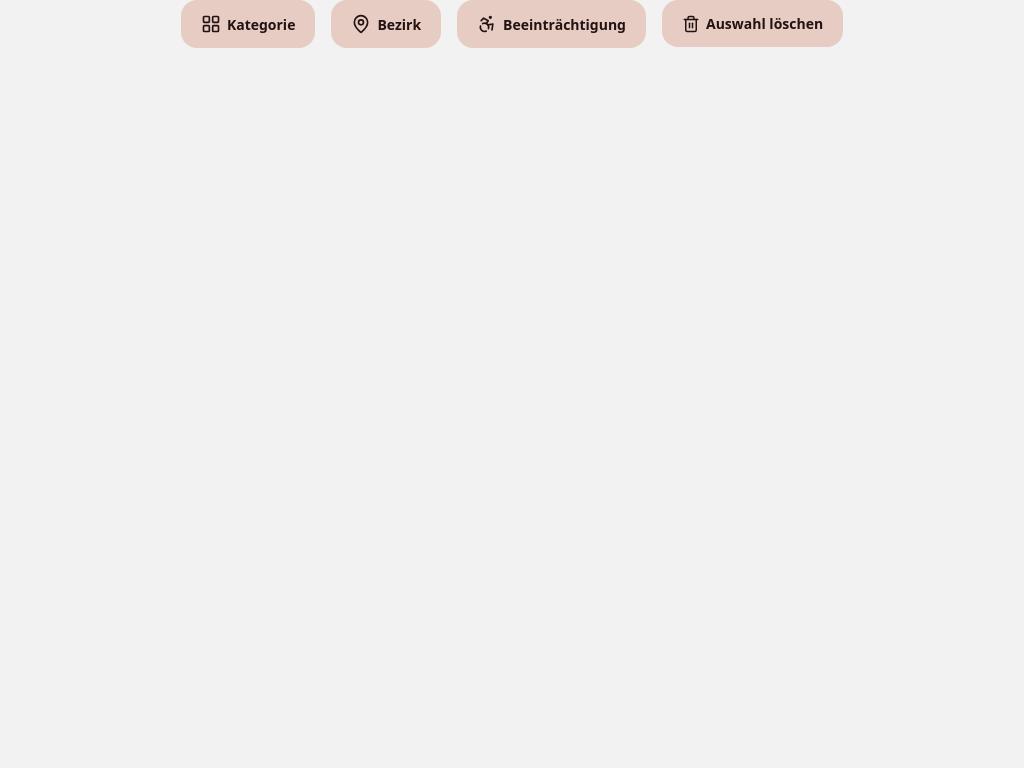
Test case: PlaceFilters › opens the category filter when clicked
Click the button "Kategorie".
click(248, 24)  # box left=181, top=0, right=315, bottom=48
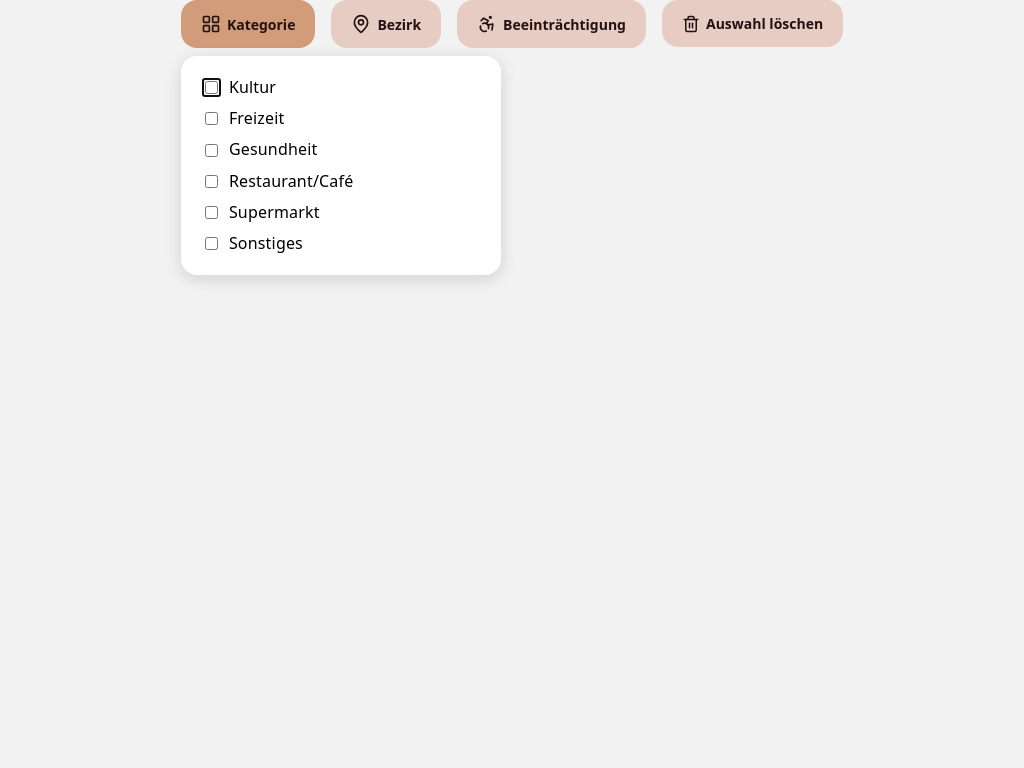
Expected: the dialog named "Kategorie Filter" is shown, left=181, top=56, right=501, bottom=275
